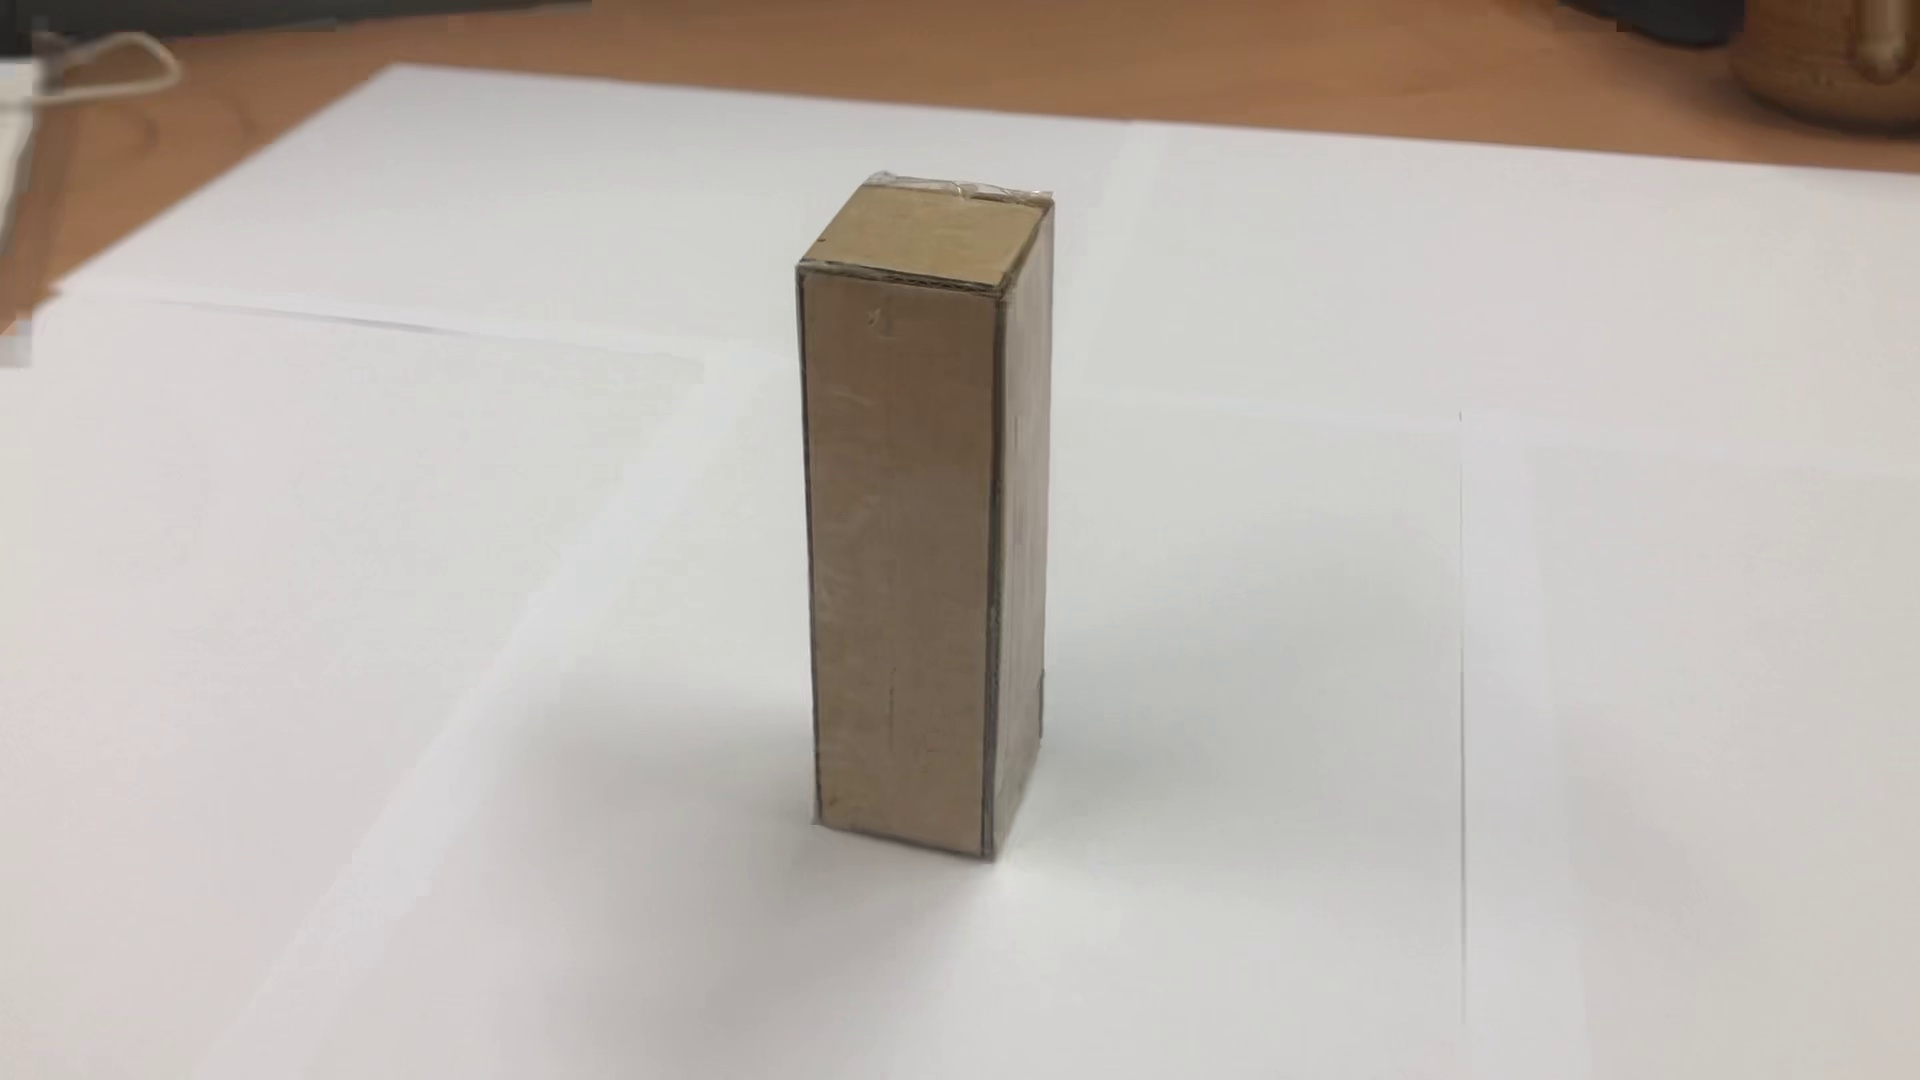box: (767, 156, 1076, 885)
